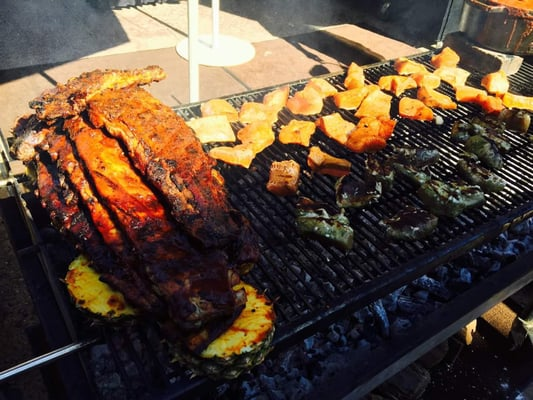curry: (1, 3, 533, 400)
